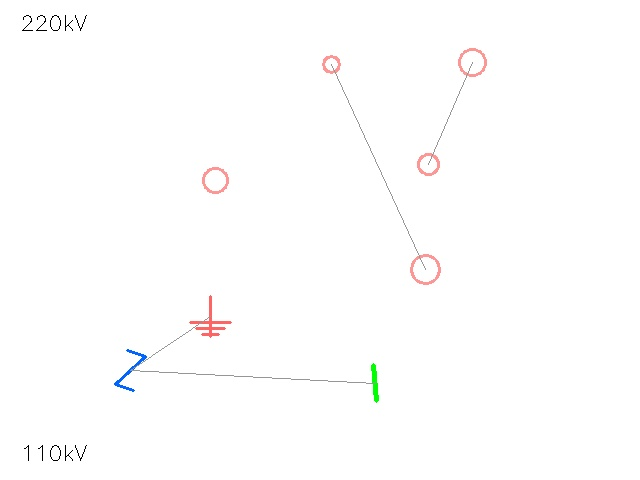busbar: (353, 361, 397, 405)
circuit_breaker: (110, 350, 150, 390)
current_transformer: (408, 144, 448, 184)
feeder_terminal: (396, 240, 454, 298)
fuse: (190, 155, 240, 205), (315, 48, 347, 80)
ground: (190, 296, 230, 336)
load_break_switch: (446, 36, 498, 88)
